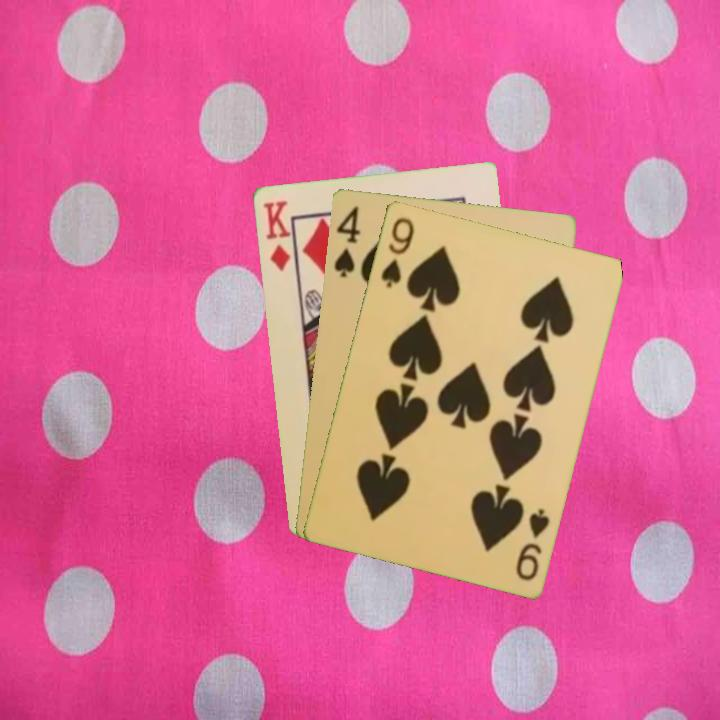4s: (330, 202, 363, 280)
9s: (512, 504, 552, 583), (377, 213, 417, 290)
Kd: (259, 197, 293, 274)
